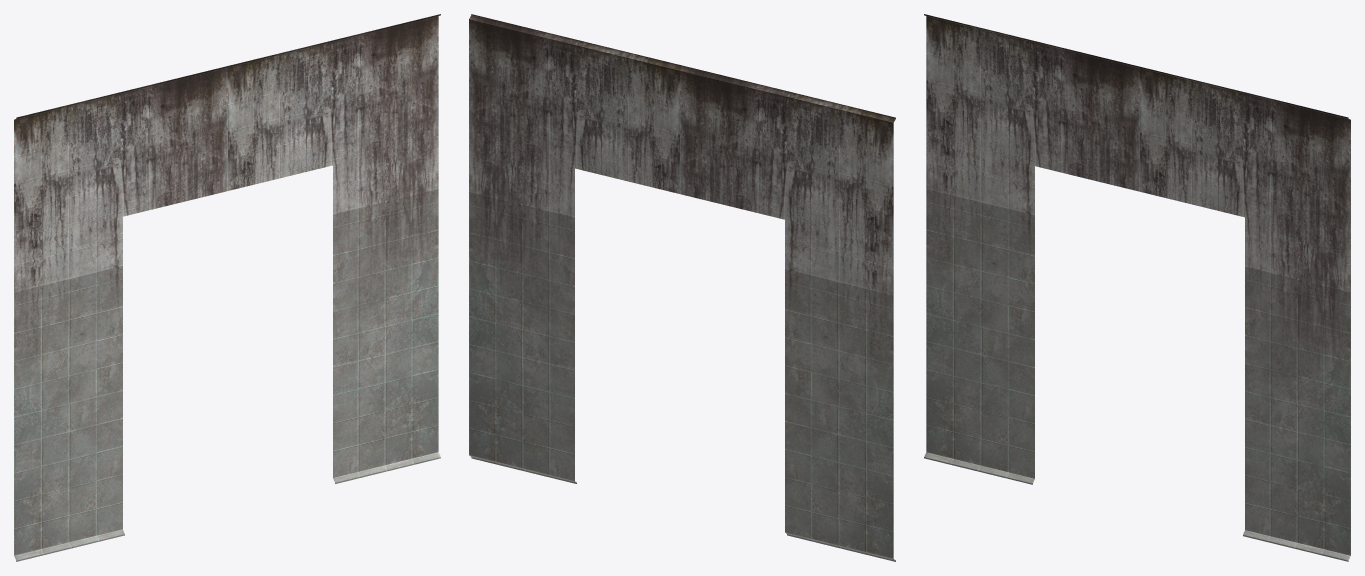
Rendered from bathroom_damaged_flat_doorway.dae.
3 renders of one model, left to right at view 1: azimuth 30°, elevation 25°; view 2: azimuth 150°, elevation 25°; view 3: azimuth 330°, elevation 25°, orthographic.
Parts seen in each view (by area): view 1: polySurface30; view 2: polySurface30; view 3: polySurface30.
Part boxes in pixels (<box>): polySurface30: <box>14,14,440,561</box>; polySurface30: <box>469,14,895,561</box>; polySurface30: <box>924,14,1350,561</box>.
Size of the model in its own units: 4 by 4 by 0.0341.
